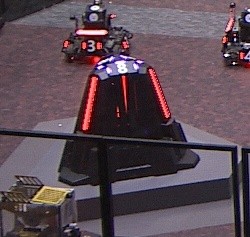armor: (147, 64, 171, 121), (78, 74, 98, 134), (119, 77, 129, 113)
base: (50, 50, 200, 187)
